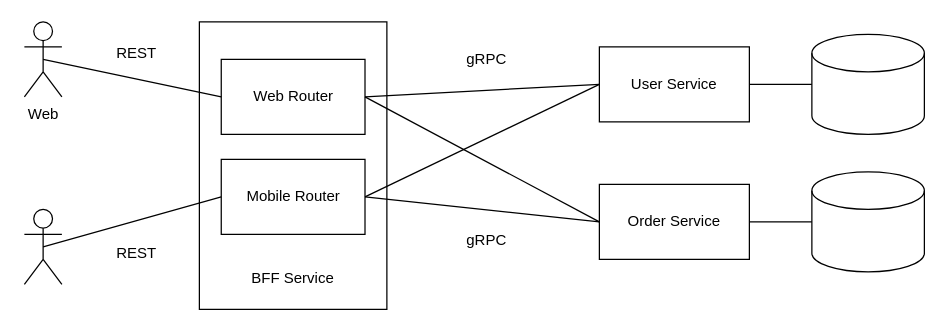
Image size: 946x333. Some labels were removed from this diagram. Here are the shapes that lost their labels. From the top down, the centre of each, then its label:
point (867, 83): User DB
point (867, 221): Order DB
point (42, 246): Mobile
